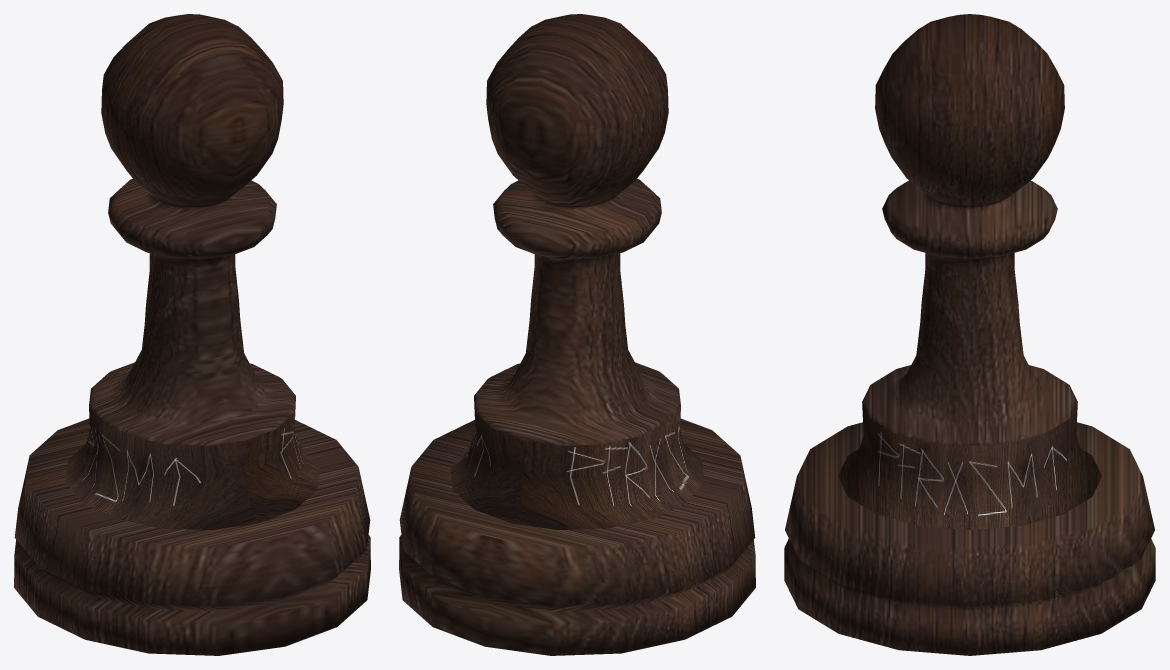
File: Peon2.fbx
3 renders of one model, left to right at view 1: azimuth 30°, elevation 25°; view 2: azimuth 150°, elevation 25°; view 3: azimuth 270°, elevation 25°, orthographic.
Parts seen in each view (by area): view 1: Vert.006; view 2: Vert.006; view 3: Vert.006.
Part boxes in pixels (left/top/right/bottom): Vert.006: left=14, top=14, right=370, bottom=655; Vert.006: left=399, top=14, right=755, bottom=655; Vert.006: left=784, top=14, right=1155, bottom=655.
Size of the model in its own units: 39.85 by 68.47 by 41.32.
2 materials, 2 textured.
